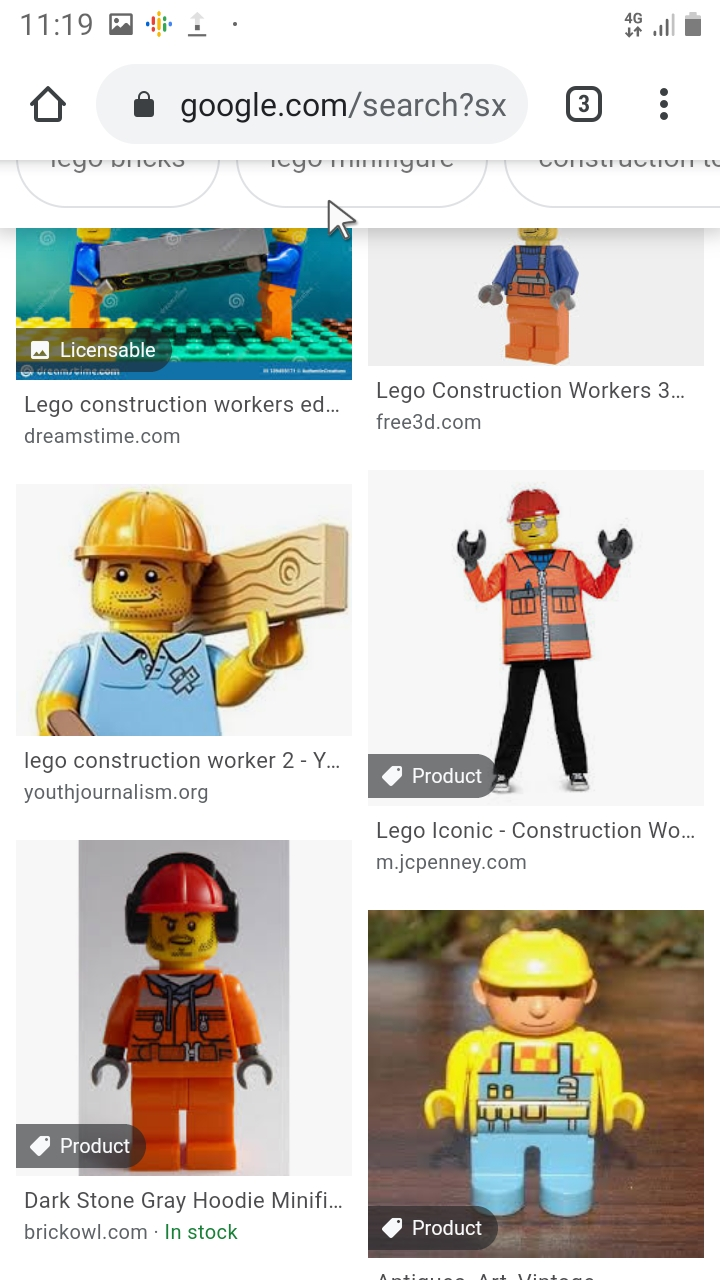pedestrian: (29, 476, 349, 747), (423, 919, 657, 1221), (455, 474, 639, 794), (92, 849, 272, 1166)
